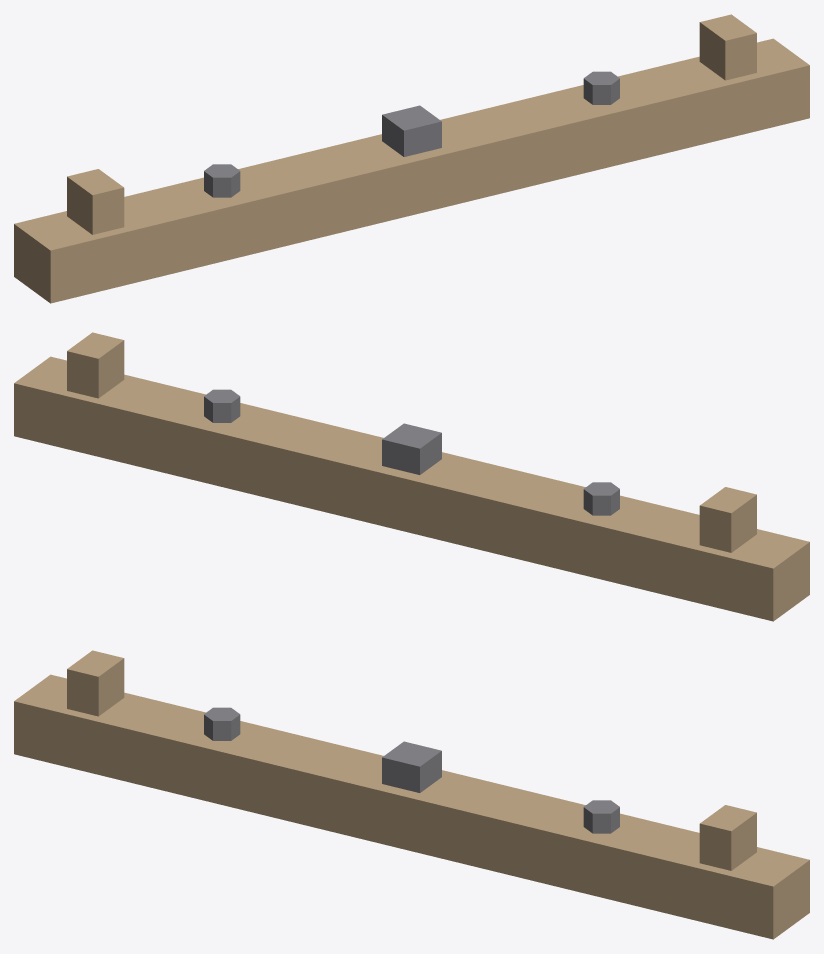
File: prop-yoke-beam-short.fbx
3 renders of one model, top to bottom at view 1: azimuth 30°, elevation 25°; view 2: azimuth 150°, elevation 25°; view 3: azimuth 330°, elevation 25°, orthographic.
Parts seen in each view (by area): view 1: prop-yoke-beam-short; view 2: prop-yoke-beam-short; view 3: prop-yoke-beam-short.
Part boxes in pixels (x1,y1,x2,y2): prop-yoke-beam-short: [14, 14, 809, 303]; prop-yoke-beam-short: [14, 332, 809, 621]; prop-yoke-beam-short: [14, 650, 809, 939].
Size of the model in its own units: 120 by 14 by 10.
